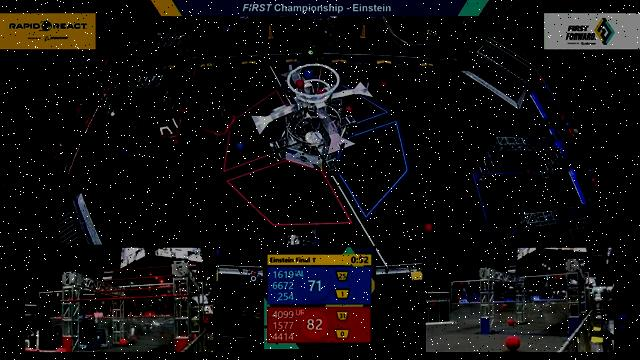Robot: (199, 98, 235, 139), (105, 103, 138, 144), (152, 105, 186, 143), (275, 222, 322, 249), (280, 61, 314, 96), (297, 41, 325, 75)
